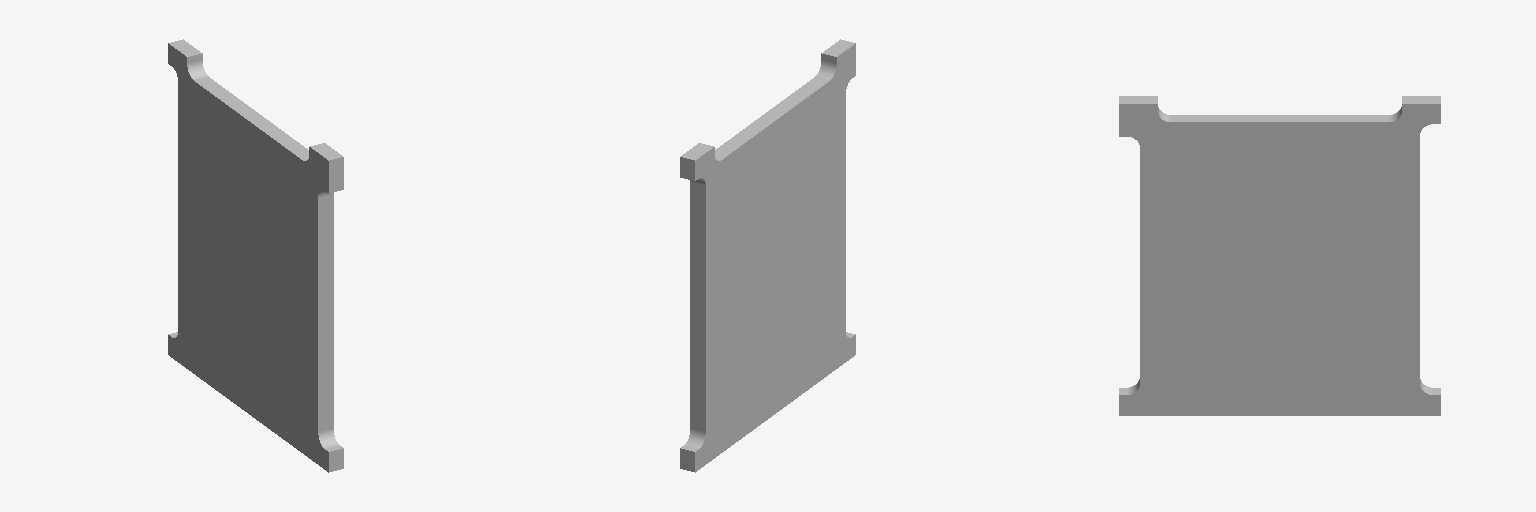
The model's file is Optical_shell_locked.obj.
3 views of the same model, side by side, from view 1: azimuth 30°, elevation 25°; view 2: azimuth 150°, elevation 25°; view 3: azimuth 270°, elevation 25° (orthographic).
Visible parts, largest first — view 1: shell_locked; view 2: shell_locked; view 3: shell_locked.
Boxes of the visible parts, <box> form: shell_locked: <box>168,39,343,472</box>; shell_locked: <box>680,39,855,472</box>; shell_locked: <box>1119,96,1440,415</box>.
Bounding box in the file's own units: 0.0022 × 0.0432 × 0.0403.